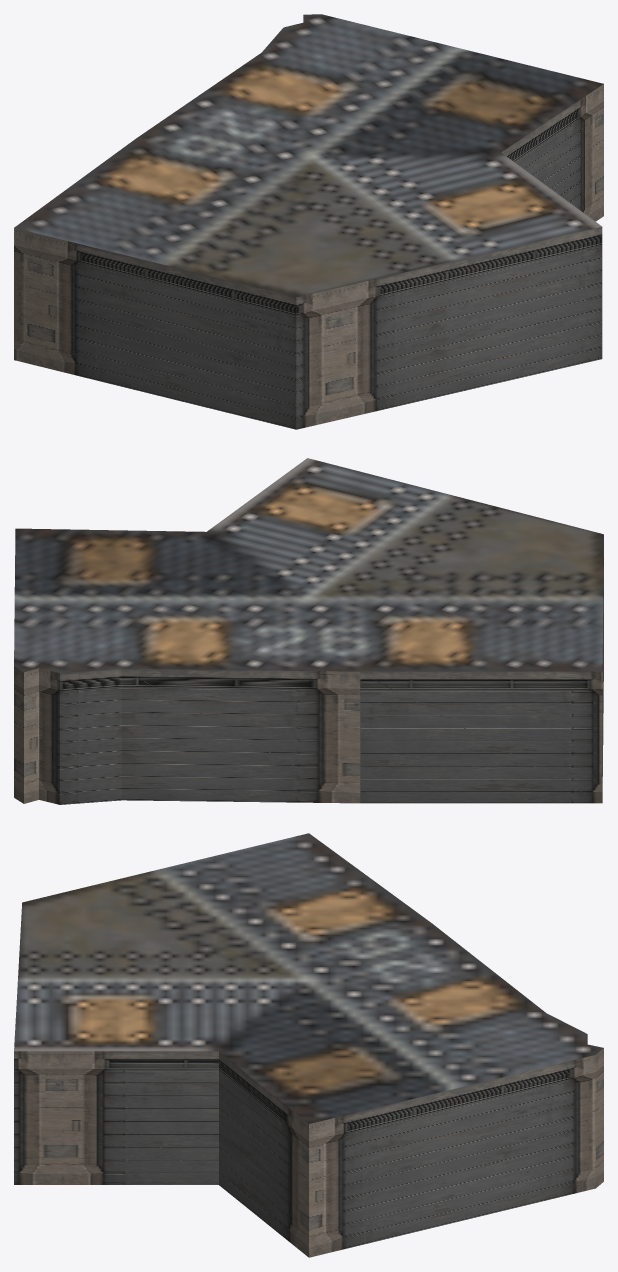
Rendered from hangar_heavy_a_26.glb.
3 views of the same model, one above another, from view 1: azimuth 30°, elevation 25°; view 2: azimuth 150°, elevation 25°; view 3: azimuth 270°, elevation 25° (orthographic).
Visible parts, largest first — view 1: buildings/saxarba/hangar_heavy/hangar_heavy_a_26; view 2: buildings/saxarba/hangar_heavy/hangar_heavy_a_26; view 3: buildings/saxarba/hangar_heavy/hangar_heavy_a_26.
Part boxes in pixels (x1,y1,x2,y2): buildings/saxarba/hangar_heavy/hangar_heavy_a_26: (14, 14, 603, 429); buildings/saxarba/hangar_heavy/hangar_heavy_a_26: (14, 458, 603, 804); buildings/saxarba/hangar_heavy/hangar_heavy_a_26: (14, 833, 603, 1257).
Size of the model in its own units: 84 by 18 by 72.
